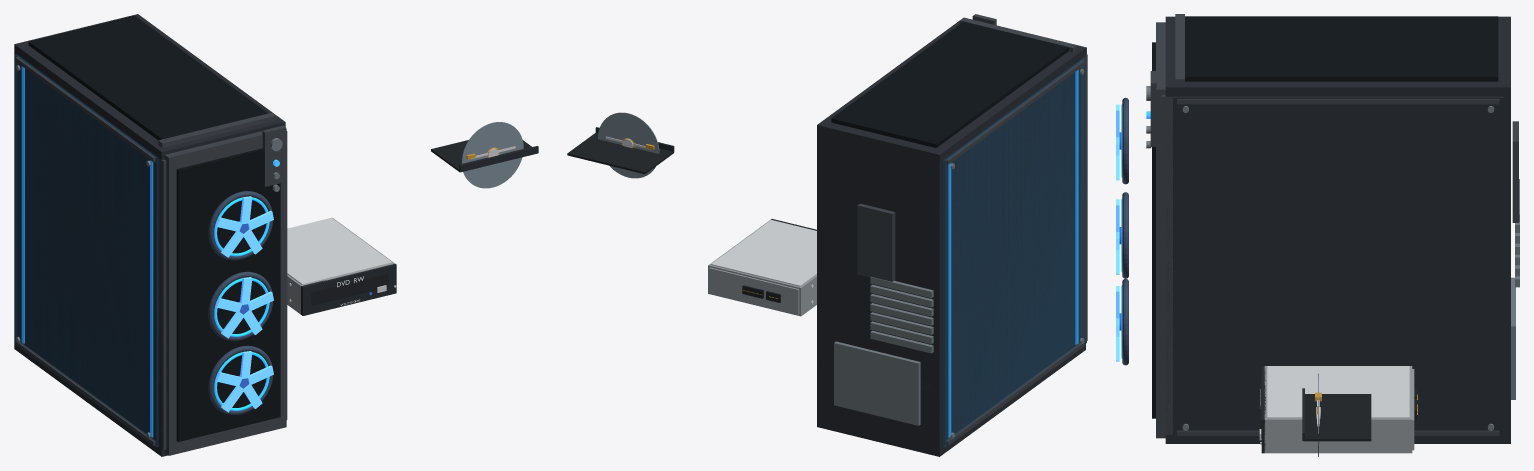
Rendered from computer_case.glb.
3 views of the same model, side by side, from view 1: azimuth 30°, elevation 25°; view 2: azimuth 150°, elevation 25°; view 3: azimuth 270°, elevation 25° (orthographic). The views are drawn at different scales.
Parts seen in each view (by area): view 1: CASE_Frame_LeftRail.001, CASE_GlassPanel.001, CASE_FrontMesh.001, CASE_TopVentilation.001, CASE_FrontBezel.001, OPTICAL_TopCover, CASE_Frame_FrontLeft.001, OPTICAL_Disc, OPTICAL_FrontBezel, CASE_Frame_TopRail.001, CASE_FrontIO.001, CASE_GlassPanel_BlueRail_Rear.001 (+13 smaller); view 2: CASE_Frame_LeftRail.001, CASE_GlassPanel.001, CASE_Frame_RearRail.001, CASE_TopVentilation.001, CASE_PSUMountArea.001, OPTICAL_TopCover, CASE_Frame_RightRail.001, CASE_RearIO.001, OPTICAL_RearPanel, OPTICAL_TrayBase, CASE_Frame_TopRail.001, CASE_Frame_FrontLeft.001 (+15 smaller); view 3: CASE_SolidPanel.001, CASE_TopVentilation.001, CASE_Frame_RightRail.001, OPTICAL_TopCover, OPTICAL_Enclosure, CASE_Frame_FrontRight.001, OPTICAL_TrayBase, CASE_FrontBezel.001, CASE_Frame_TopRail.001, CASE_SolidPanel_TopTrim.001, CASE_FrontMesh.001, CASE_SolidPanel_BottomTrim.001 (+7 smaller).
Boxes of the visible parts, x1,y1,x2,y2 form: CASE_Frame_LeftRail.001: (14, 42, 168, 456); CASE_GlassPanel.001: (15, 54, 158, 447); CASE_FrontMesh.001: (176, 148, 280, 441); CASE_TopVentilation.001: (28, 15, 268, 140); CASE_FrontBezel.001: (164, 129, 286, 455); OPTICAL_TopCover: (287, 218, 392, 285); CASE_Frame_FrontLeft.001: (157, 157, 166, 450); OPTICAL_Disc: (461, 122, 523, 188); OPTICAL_FrontBezel: (301, 263, 396, 315); CASE_Frame_TopRail.001: (21, 16, 278, 153); CASE_FrontIO.001: (262, 125, 286, 186); CASE_GlassPanel_BlueRail_Rear.001: (21, 66, 24, 343); CASE_Frame_LeftRail.001: (932, 46, 1085, 456); CASE_GlassPanel.001: (942, 58, 1085, 447); CASE_Frame_RearRail.001: (824, 134, 932, 447); CASE_TopVentilation.001: (831, 21, 1068, 147); CASE_PSUMountArea.001: (834, 341, 920, 425); OPTICAL_TopCover: (711, 220, 816, 286); CASE_Frame_RightRail.001: (817, 21, 959, 428); CASE_RearIO.001: (857, 203, 895, 281); OPTICAL_RearPanel: (709, 267, 799, 314); OPTICAL_TrayBase: (567, 133, 673, 174); CASE_Frame_TopRail.001: (824, 46, 1078, 160); CASE_Frame_FrontLeft.001: (1081, 54, 1087, 342); CASE_SolidPanel.001: (1173, 96, 1503, 435); CASE_TopVentilation.001: (1185, 16, 1498, 81); CASE_Frame_RightRail.001: (1165, 83, 1510, 443); OPTICAL_TopCover: (1267, 366, 1409, 418); OPTICAL_Enclosure: (1264, 366, 1412, 453); CASE_Frame_FrontRight.001: (1161, 95, 1172, 434); OPTICAL_TrayBase: (1303, 394, 1371, 441); CASE_FrontBezel.001: (1156, 22, 1165, 438); CASE_Frame_TopRail.001: (1165, 20, 1510, 83); CASE_SolidPanel_TopTrim.001: (1177, 99, 1499, 104); CASE_FrontMesh.001: (1152, 42, 1155, 418); CASE_SolidPanel_BottomTrim.001: (1177, 430, 1499, 435).
Size of the model in its own units: 0.686 by 0.46 by 0.465.
